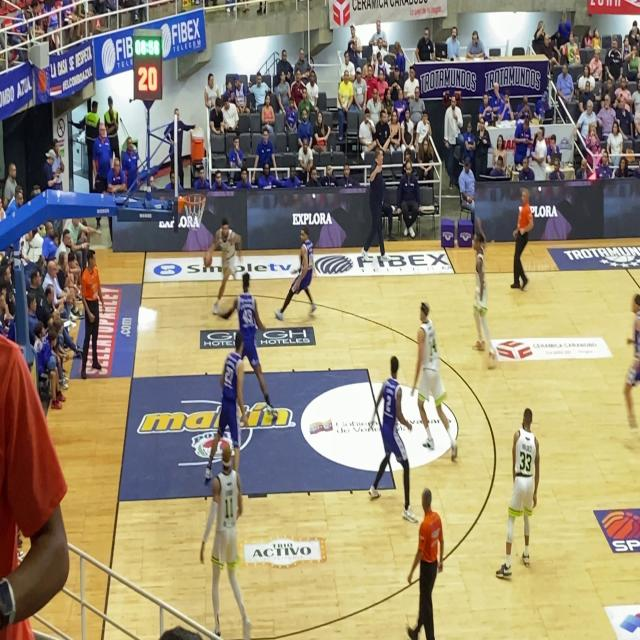Ball: (198, 243, 214, 273)
referee: (394, 475, 453, 640), (502, 178, 538, 307), (76, 237, 106, 382)
team1: (198, 424, 256, 640), (495, 400, 542, 591), (410, 303, 462, 463), (464, 213, 499, 380), (201, 209, 242, 312)
team2: (364, 345, 416, 525), (274, 212, 319, 331), (214, 322, 248, 449), (231, 246, 265, 361), (625, 279, 640, 425)
ubasket: (182, 185, 206, 230)
